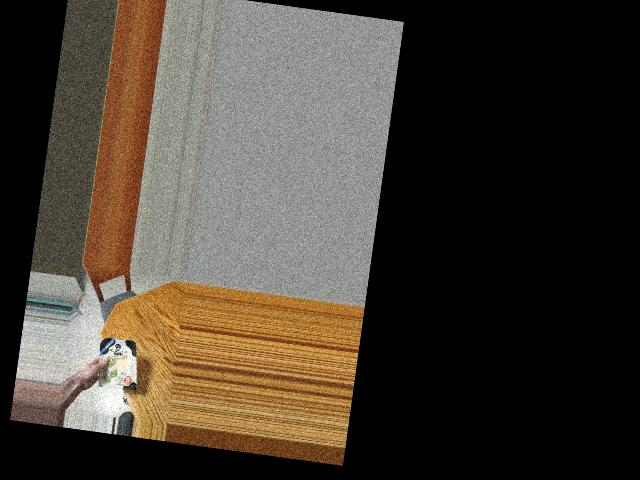cheese: (90, 329, 137, 399)
